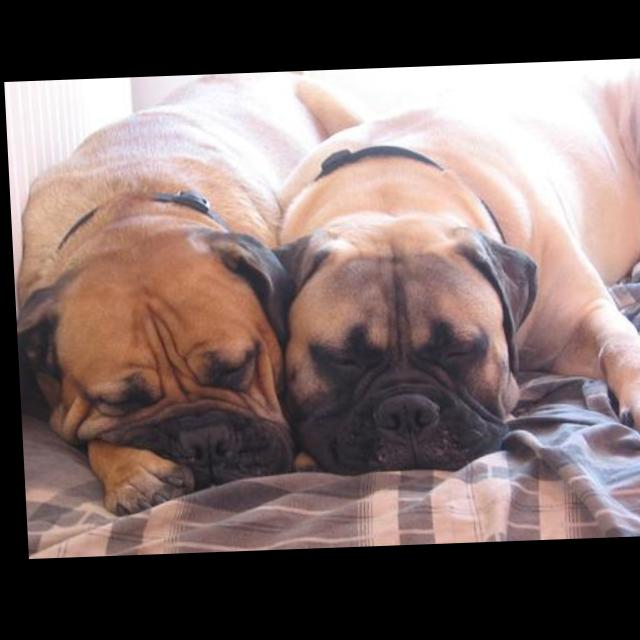bullmastiff: (5, 72, 382, 520), (262, 63, 640, 480)
